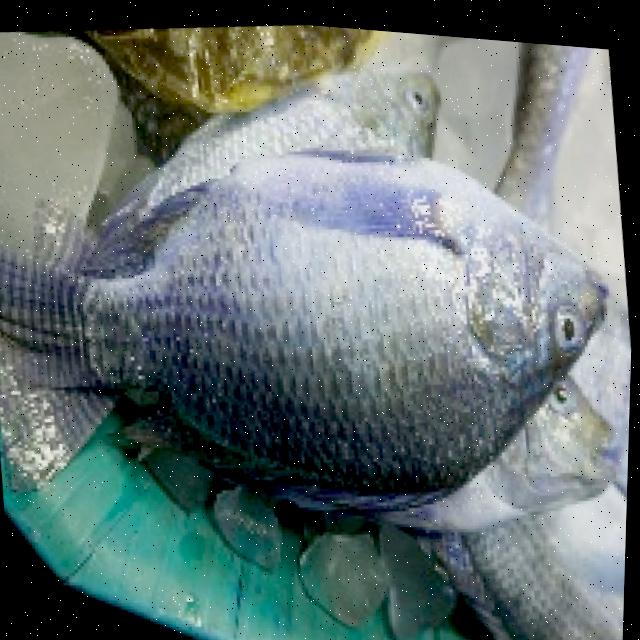Fresh: (0, 90, 562, 548), (519, 258, 623, 369)
